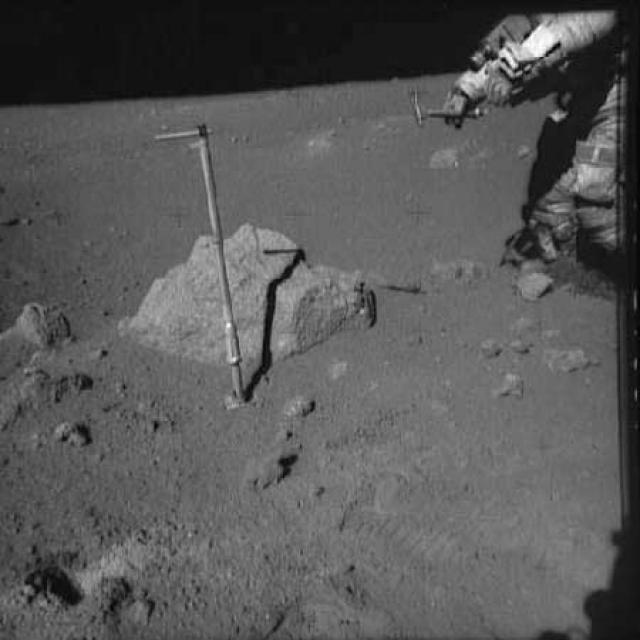rock: (121, 210, 391, 372), (0, 352, 97, 437), (419, 122, 532, 172), (1, 295, 81, 352), (237, 442, 308, 496), (8, 562, 71, 620), (540, 338, 601, 372), (429, 255, 489, 285), (510, 266, 557, 302), (489, 365, 529, 400), (283, 384, 319, 420), (55, 418, 92, 452), (476, 329, 508, 363), (506, 335, 530, 359)
